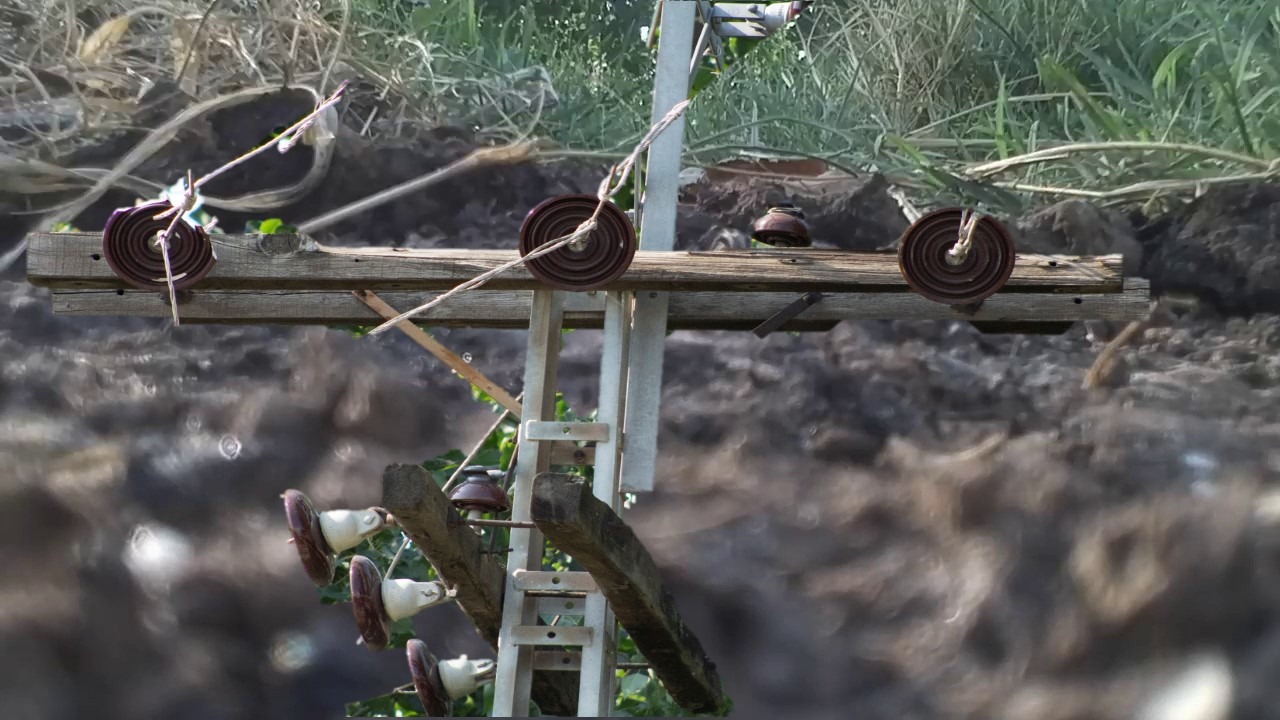defect_disc: (98, 185, 224, 300)
insulator_disc: (898, 201, 1020, 314), (517, 189, 640, 297), (279, 475, 354, 592), (391, 630, 480, 711), (344, 550, 404, 658)
insulator_pin: (749, 190, 817, 255), (448, 455, 513, 522)
